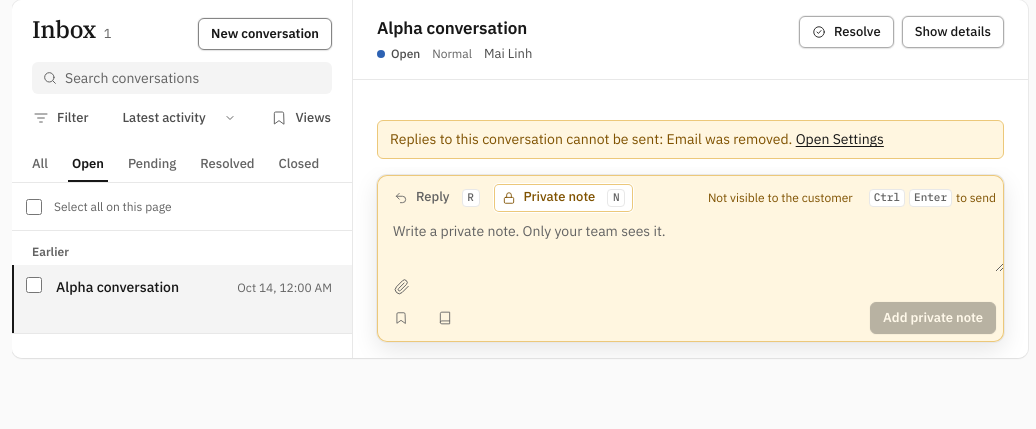
Test: a conversation whose channel was removed takes private notes but no reply
Expected: the text "Replies to this conversation cannot be sent: Email was removed." is shown, [390,130,792,148]
Type "Hello" into the text box named "Message body" at (690, 242), box [377,213,1004,272]
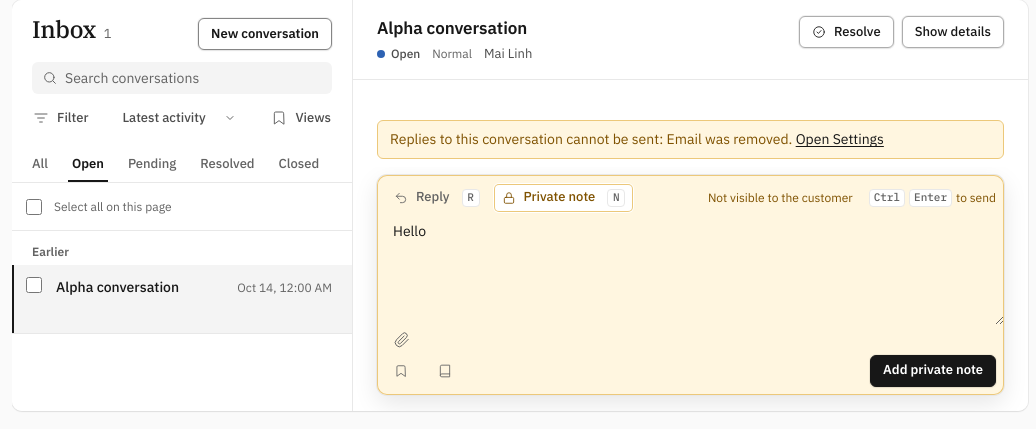
Expected: the button "Add private note" is enabled, [870,355,996,387]
Click the button "Reply R" at (437, 198), box [385,183,488,213]
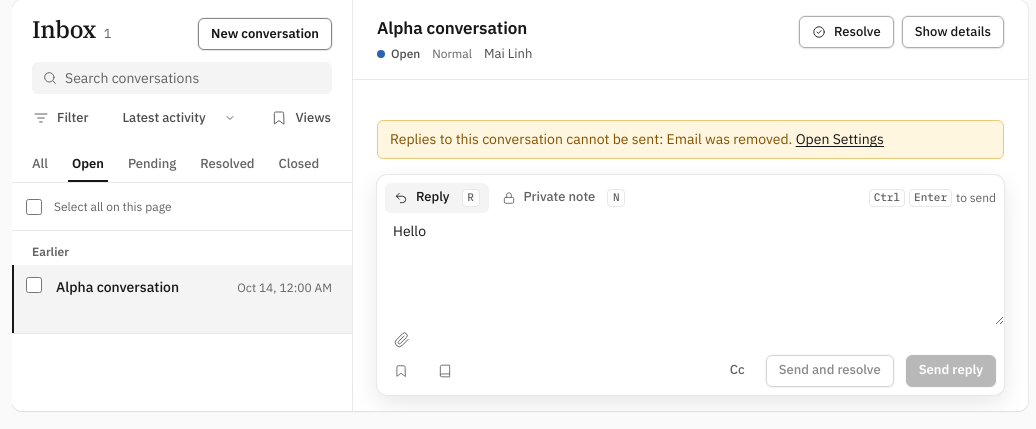
Expected: the button "Send reply" is disabled, [906,355,996,387]
